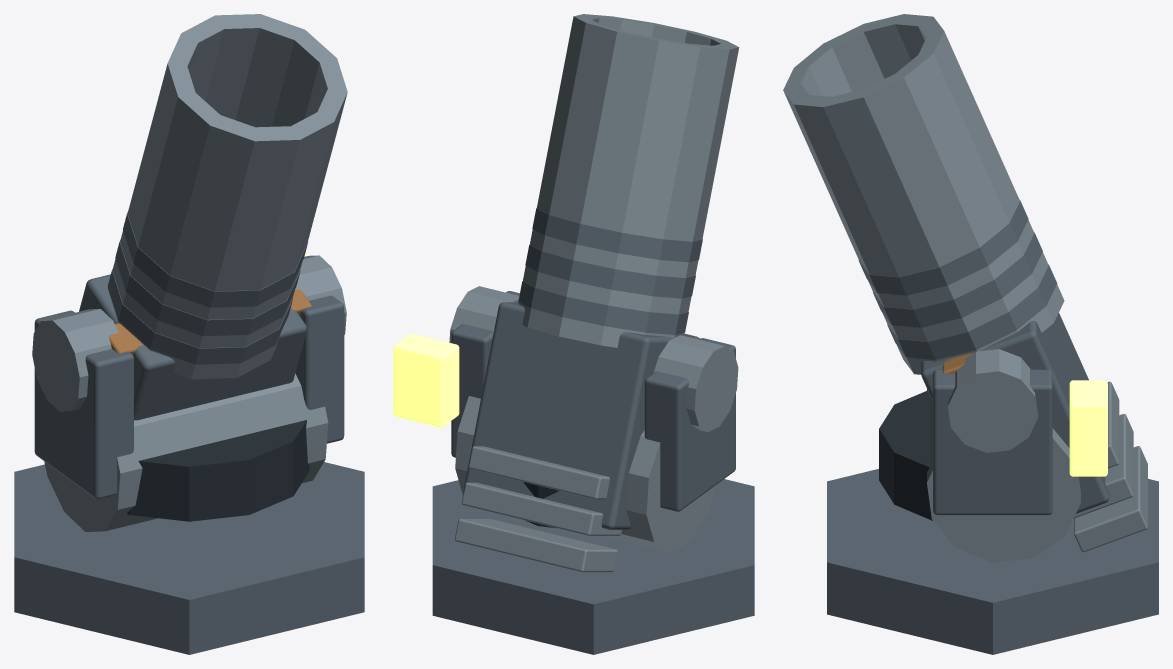
File: mortar_t2_d0.glb
3 renders of one model, left to right at view 1: azimuth 30°, elevation 25°; view 2: azimuth 150°, elevation 25°; view 3: azimuth 270°, elevation 25°, orthographic. The views are drawn at different scales.
Parts seen in each view (by area): view 1: RECOIL_ARMOR_GEOMETRY, BASE_ARMOR_GEOMETRY, YAW_ARMOR_GEOMETRY; view 2: RECOIL_ARMOR_GEOMETRY, BASE_ARMOR_GEOMETRY, YAW_ARMOR_GEOMETRY, YAW_SIGNAL_GEOMETRY; view 3: RECOIL_ARMOR_GEOMETRY, BASE_ARMOR_GEOMETRY, YAW_ARMOR_GEOMETRY, YAW_SIGNAL_GEOMETRY.
Part boxes in pixels (x1,y1,x2,y2): RECOIL_ARMOR_GEOMETRY: (32,14,347,531); BASE_ARMOR_GEOMETRY: (14,462,364,654); YAW_ARMOR_GEOMETRY: (34,295,344,521); RECOIL_ARMOR_GEOMETRY: (449,14,739,572); BASE_ARMOR_GEOMETRY: (432,479,754,654); YAW_ARMOR_GEOMETRY: (451,291,735,528); YAW_SIGNAL_GEOMETRY: (393,333,459,427); RECOIL_ARMOR_GEOMETRY: (783,14,1147,562); BASE_ARMOR_GEOMETRY: (827,469,1158,654); YAW_ARMOR_GEOMETRY: (879,369,1052,520); YAW_SIGNAL_GEOMETRY: (1069,380,1107,476).
Bounding box in the file's own units: 1.6 × 2.5 × 1.57.
